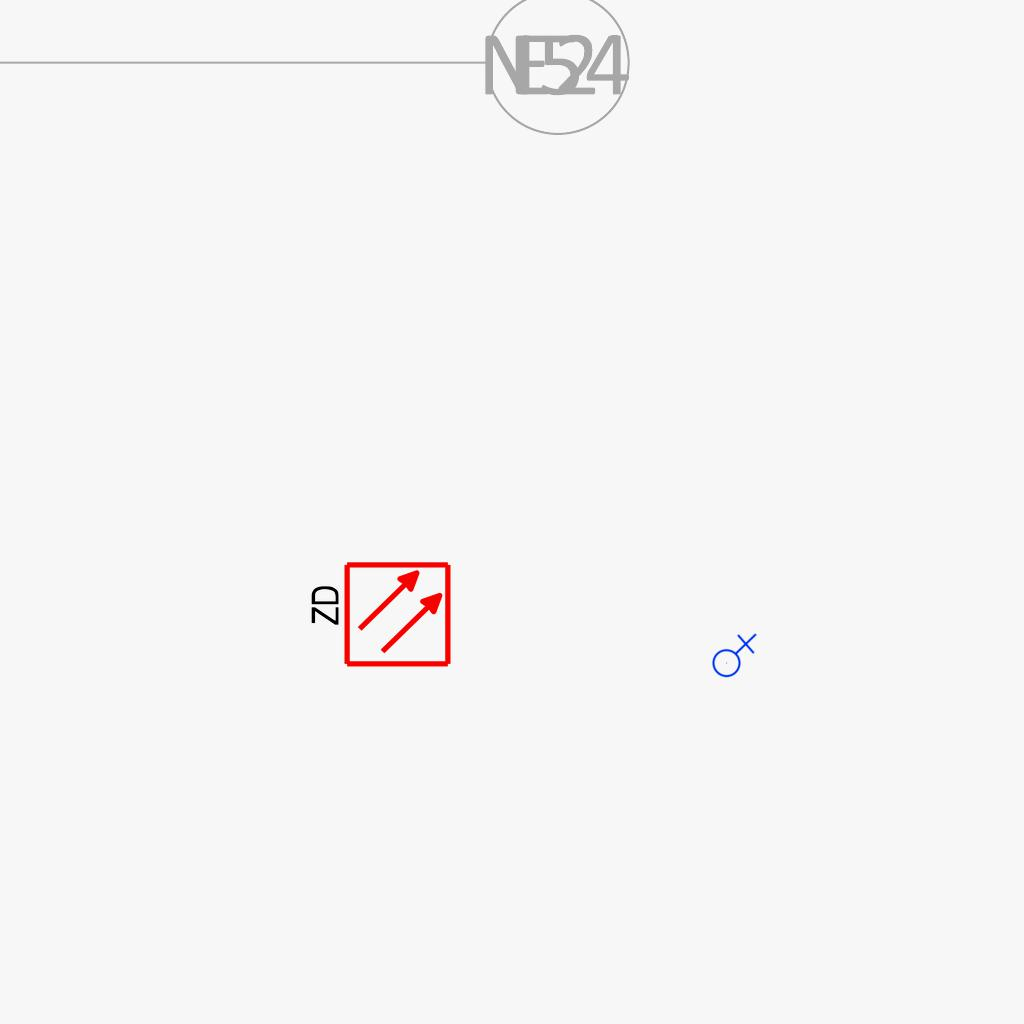Elektroanschluss_allgemein_230V_Geraeteanschlussdose_230V: (708, 631, 757, 678)
ZD_Melder_in_Zwischendecke_mit_Revisionsoeffnung_mind_40_x_40_cm: (304, 559, 453, 673)
